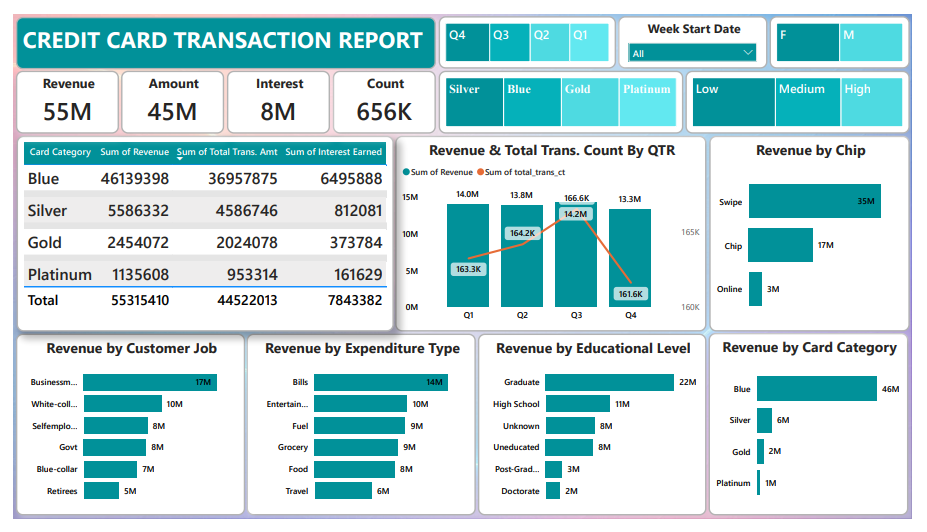

Layout of this report page (visuals, bound fields, positions):
{"tool":"powerbi","page":{"name":"CC TRANSACTION REPORT","canvas":[1280,720],"ordinal":0},"visuals":[{"type":"textbox","box":[2.9,2.9,599,74.9],"z":0},{"type":"lineStackedColumnComboChart","title":"Revenue & Total Trans. Count By QTR","fields":{"Y":["Sum(public cc_detail.Revenue)"],"Category":["public cc_detail.qtr"],"Y2":["Sum(public cc_detail.total_trans_ct)"]},"box":[544.2,173.3,444.2,279.2],"z":1000},{"type":"barChart","title":" Revenue by Expenditure Type","fields":{"Category":["public cc_detail.exp_type"],"Y":["Sum(public cc_detail.Revenue)"]},"box":[332,456,327,260],"z":2000},{"type":"barChart","title":" Revenue by Educational Level","fields":{"Y":["Sum(public cc_detail.Revenue)"],"Category":["public cust_detail.education_level"]},"box":[662,456,326,260],"z":3000},{"type":"barChart","title":" Revenue by Customer Job","fields":{"Y":["Sum(public cc_detail.Revenue)"],"Category":["public cust_detail.customer_job"]},"box":[3,456,327,260],"z":4000},{"type":"barChart","title":" Revenue by Card Category","fields":{"Category":["public cc_detail.card_category"],"Y":["Sum(public cc_detail.Revenue)"]},"box":[991,455,285,261],"z":5000},{"type":"barChart","title":" Revenue by Chip","fields":{"Y":["Sum(public cc_detail.Revenue)"],"Category":["public cc_detail.use_chip"]},"box":[991.7,173.3,285.8,279.2],"z":6000},{"type":"tableEx","fields":{"Values":["public cc_detail.card_category","Sum(public cc_detail.Revenue)","Sum(public cc_detail.total_trans_amt)","Sum(public cc_detail.interest_earned)"]},"box":[4.2,173.3,537.5,279.2],"z":7000},{"type":"card","title":"Revenue","fields":{"Values":["Sum(public cc_detail.Revenue)"]},"box":[3,80,147,90],"z":8000},{"type":"card","title":"Amount","fields":{"Values":["Sum(public cc_detail.total_trans_amt)"]},"box":[153,80,147,90],"z":9000},{"type":"card","title":"Count","fields":{"Values":["Sum(public cc_detail.total_trans_ct)"]},"box":[455,80,147,90],"z":10000},{"type":"card","title":"Interest ","fields":{"Values":["Sum(public cc_detail.interest_earned)"]},"box":[304,80,147,90],"z":11000},{"type":"slicer","title":"Week Start Date","fields":{"Values":["public cc_detail.week_start_date"]},"box":[862,2,213,75],"z":12000},{"type":"treemap","fields":{"Group":["public cc_detail.qtr"],"Values":["Avg(public cc_detail.client_num)"]},"box":[606,2,253,75],"z":13000},{"type":"treemap","fields":{"Values":["Avg(public cc_detail.client_num)"],"Group":["public cust_detail.gender"]},"box":[1078,2,200,75],"z":14000},{"type":"treemap","fields":{"Values":["Avg(public cc_detail.client_num)"],"Group":["public cc_detail.card_category"]},"box":[606,80,349,90],"z":15000},{"type":"treemap","fields":{"Values":["Sum(public cc_detail.client_num)"],"Group":["public cust_detail.Income Group"]},"box":[958,80,320,90],"z":16000}]}

Visuals, with their boxes in screenshot pixels (x1, y1, x2, y2), scaled from the page's 1280x720 canvas onto the 927x532 screenshot:
textbox: detection(2, 2, 436, 57)
"Revenue & Total Trans. Count By QTR" lineStackedColumnComboChart: detection(394, 128, 716, 334)
" Revenue by Expenditure Type" barChart: detection(240, 337, 477, 529)
" Revenue by Educational Level" barChart: detection(479, 337, 716, 529)
" Revenue by Customer Job" barChart: detection(2, 337, 239, 529)
" Revenue by Card Category" barChart: detection(718, 336, 924, 529)
" Revenue by Chip" barChart: detection(718, 128, 925, 334)
tableEx - public cc_detail.card_category x Sum(public cc_detail.Revenue): detection(3, 128, 392, 334)
"Revenue" card: detection(2, 59, 109, 126)
"Amount" card: detection(111, 59, 217, 126)
"Count" card: detection(330, 59, 436, 126)
"Interest " card: detection(220, 59, 327, 126)
"Week Start Date" slicer: detection(624, 1, 779, 57)
treemap - public cc_detail.qtr x Avg(public cc_detail.client_num): detection(439, 1, 622, 57)
treemap - Avg(public cc_detail.client_num) x public cust_detail.gender: detection(781, 1, 926, 57)
treemap - Avg(public cc_detail.client_num) x public cc_detail.card_category: detection(439, 59, 692, 126)
treemap - Sum(public cc_detail.client_num) x public cust_detail.Income Group: detection(694, 59, 926, 126)
